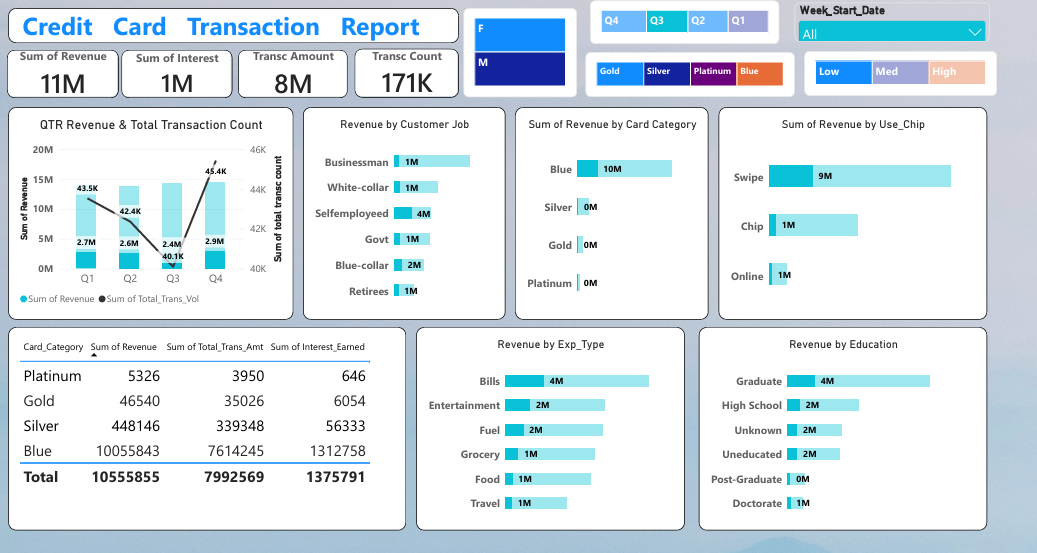

What the dashboard file says about the page in this screenshot:
{"tool":"powerbi","page":{"name":"CC Transaction","canvas":[1920,1080],"ordinal":0},"visuals":[{"type":"textbox","box":[15,11.7,683.3,53.3],"z":0},{"type":"lineStackedColumnComboChart","title":"QTR Revenue & Total Transaction Count","fields":{"Category":["ccdb cc_detail.Qtr"],"Y":["Sum(ccdb cc_detail.Revenue)"],"Y2":["Sum(ccdb cc_detail.Total_Trans_Vol)"]},"box":[15,161.7,431.7,321.7],"z":1000},{"type":"barChart","title":"Revenue by Exp_Type","fields":{"Category":["ccdb cc_detail.Exp_Type"],"Y":["Sum(ccdb cc_detail.Revenue)"]},"box":[633.3,495,406.7,308.3],"z":2000},{"type":"barChart","title":"Revenue by Education ","fields":{"Category":["ccdb cust_detail.Education_Level","ccdb cc_detail.Exp_Type"],"Y":["Sum(ccdb cc_detail.Revenue)"]},"box":[1061.7,495,436.7,308.3],"z":3000},{"type":"barChart","title":"Revenue by Customer Job","fields":{"Category":["ccdb cust_detail.Customer_Job"],"Y":["Sum(ccdb cc_detail.Revenue)"]},"box":[461.7,161.7,306.7,321.7],"z":4000},{"type":"barChart","title":"Sum of Revenue by Card Category","fields":{"Category":["ccdb cc_detail.Card_Category"],"Y":["Sum(ccdb cc_detail.Revenue)"]},"box":[783.3,161.7,293.3,321.7],"z":5000},{"type":"barChart","fields":{"Category":["ccdb cc_detail.Use_Chip"],"Y":["Sum(ccdb cc_detail.Revenue)"]},"box":[1091.7,161.7,406.7,321.7],"z":6000},{"type":"tableEx","fields":{"Values":["ccdb cc_detail.Card_Category","Sum(ccdb cc_detail.Revenue)","Sum(ccdb cc_detail.Total_Trans_Amt)","Sum(ccdb cc_detail.Interest_Earned)"]},"box":[15,495,603.3,308.3],"z":7000},{"type":"cardVisual","title":"Revenue","fields":{"Data":["Sum(ccdb cc_detail.Revenue)"]},"box":[12.9,74.3,168.8,72.5],"z":8000},{"type":"cardVisual","title":"R","fields":{"Data":["Sum(ccdb cc_detail.Interest_Earned)"]},"box":[187.1,74.3,167.5,72.5],"z":9000},{"type":"cardVisual","title":"R","fields":{"Data":["Sum(ccdb cc_detail.Total_Trans_Amt)"]},"box":[362.9,74.3,166.2,72.5],"z":10000},{"type":"cardVisual","title":"R","fields":{"Data":["Sum(ccdb cc_detail.Total_Trans_Vol)"]},"box":[540,72.9,157.5,73.8],"z":11000},{"type":"slicer","fields":{"Values":["ccdb cc_detail.Week_Start_Date"]},"box":[1206.7,3.3,295.7,58.6],"z":12000},{"type":"treemap","fields":{"Group":["ccdb cc_detail.Qtr"],"Values":["Avg(ccdb cc_detail.Client_Num)"]},"box":[896.7,0,287.1,65.7],"z":13000},{"type":"treemap","fields":{"Group":["ccdb cust_detail.Gender"],"Values":["Avg(ccdb cc_detail.Client_Num)"]},"box":[705,11.7,171.7,135],"z":14000},{"type":"treemap","fields":{"Group":["ccdb cc_detail.Card_Category"],"Values":["Avg(ccdb cc_detail.Client_Num)"]},"box":[890,78.3,316.7,68.3],"z":15000},{"type":"treemap","fields":{"Group":["ccdb cust_detail.IncomeGroup"],"Values":["Avg(ccdb cc_detail.Client_Num)"]},"box":[1221.7,76.7,291.7,68.3],"z":16000}]}

Visuals, with their boxes on the page's 1920x1080 design canvas (x1, y1, x2, y2). These are canvas units, not pixel positions in the 1037x553 screenshot, which may show the page scaled, cropped or inside an application window:
textbox: {"left": 15, "top": 12, "right": 698, "bottom": 65}
"QTR Revenue & Total Transaction Count" lineStackedColumnComboChart: {"left": 15, "top": 162, "right": 447, "bottom": 483}
"Revenue by Exp_Type" barChart: {"left": 633, "top": 495, "right": 1040, "bottom": 803}
"Revenue by Education " barChart: {"left": 1062, "top": 495, "right": 1498, "bottom": 803}
"Revenue by Customer Job" barChart: {"left": 462, "top": 162, "right": 768, "bottom": 483}
"Sum of Revenue by Card Category" barChart: {"left": 783, "top": 162, "right": 1077, "bottom": 483}
barChart - ccdb cc_detail.Use_Chip x Sum(ccdb cc_detail.Revenue): {"left": 1092, "top": 162, "right": 1498, "bottom": 483}
tableEx - ccdb cc_detail.Card_Category x Sum(ccdb cc_detail.Revenue): {"left": 15, "top": 495, "right": 618, "bottom": 803}
"Revenue" cardVisual: {"left": 13, "top": 74, "right": 182, "bottom": 147}
"R" cardVisual: {"left": 187, "top": 74, "right": 355, "bottom": 147}
"R" cardVisual: {"left": 363, "top": 74, "right": 529, "bottom": 147}
"R" cardVisual: {"left": 540, "top": 73, "right": 698, "bottom": 147}
slicer - ccdb cc_detail.Week_Start_Date: {"left": 1207, "top": 3, "right": 1502, "bottom": 62}
treemap - ccdb cc_detail.Qtr x Avg(ccdb cc_detail.Client_Num): {"left": 897, "top": 0, "right": 1184, "bottom": 66}
treemap - ccdb cust_detail.Gender x Avg(ccdb cc_detail.Client_Num): {"left": 705, "top": 12, "right": 877, "bottom": 147}
treemap - ccdb cc_detail.Card_Category x Avg(ccdb cc_detail.Client_Num): {"left": 890, "top": 78, "right": 1207, "bottom": 147}
treemap - ccdb cust_detail.IncomeGroup x Avg(ccdb cc_detail.Client_Num): {"left": 1222, "top": 77, "right": 1513, "bottom": 145}
